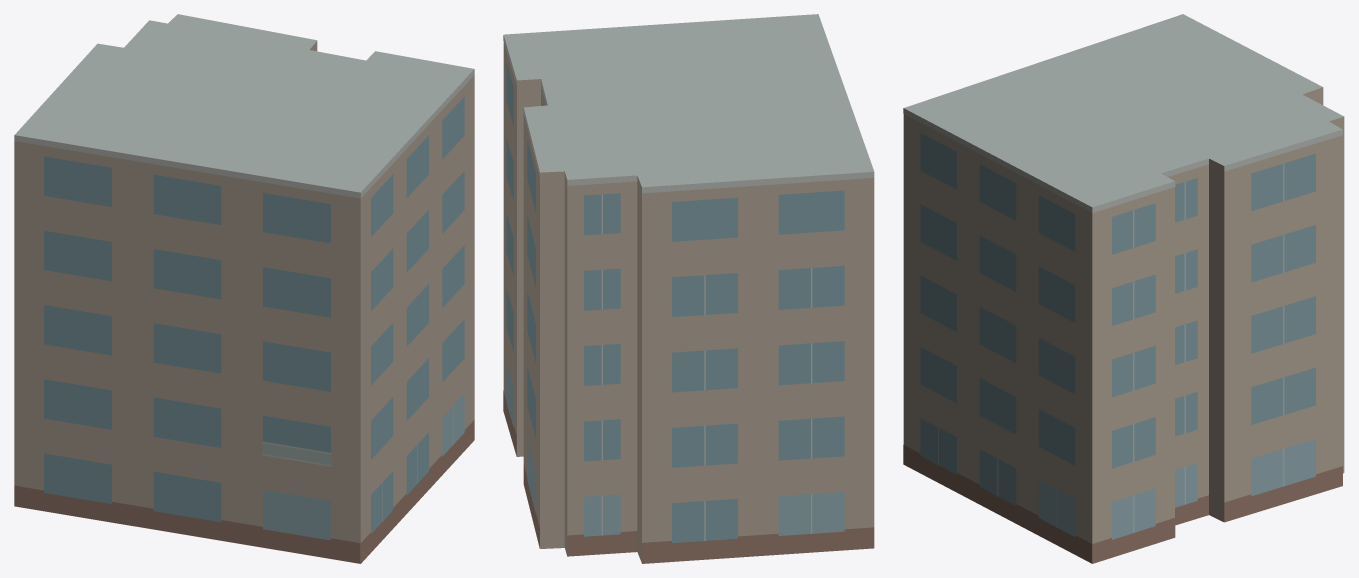
The model's file is survey-upis-32740714.glb.
3 views of the same model, side by side, from view 1: azimuth 30°, elevation 25°; view 2: azimuth 150°, elevation 25°; view 3: azimuth 270°, elevation 25° (orthographic). The views are drawn at different scales.
Parts seen in each view (by area): view 1: survey-upis-32740714.tmp; view 2: survey-upis-32740714.tmp; view 3: survey-upis-32740714.tmp.
Boxes of the visible parts, <box> form: survey-upis-32740714.tmp: <box>14,14,474,563</box>; survey-upis-32740714.tmp: <box>503,14,874,563</box>; survey-upis-32740714.tmp: <box>903,14,1344,563</box>.
Size of the model in its own units: 17.76 by 15.25 by 17.1.
